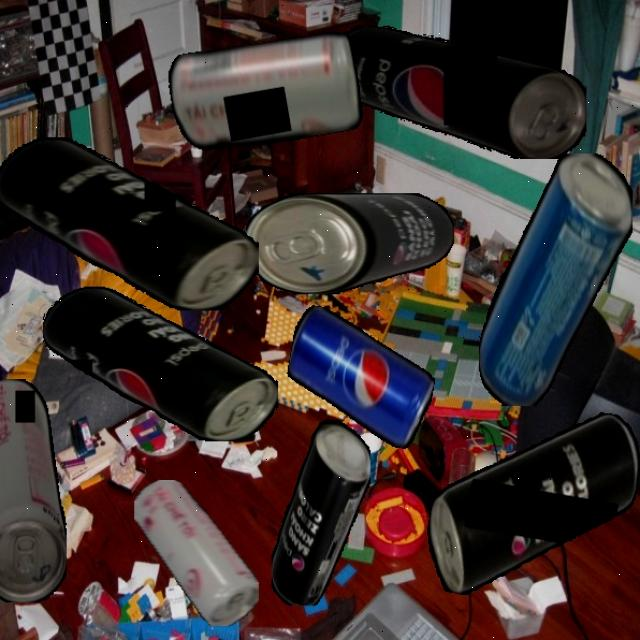debris: (417, 386, 640, 620), (0, 137, 259, 310), (478, 152, 632, 406), (43, 286, 278, 441), (328, 26, 586, 159), (164, 26, 366, 159), (278, 304, 444, 451), (246, 192, 454, 294), (270, 414, 370, 606), (134, 479, 259, 626), (0, 378, 67, 602)
